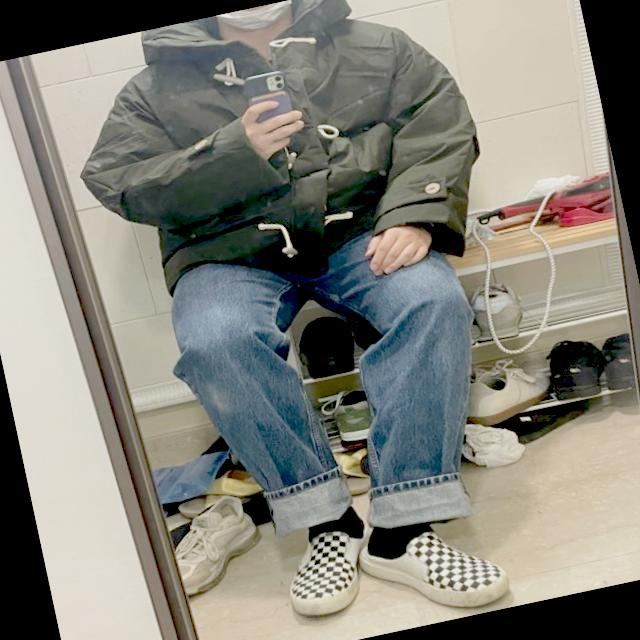denimpants: (148, 200, 520, 572)
padding: (54, 0, 507, 333)
